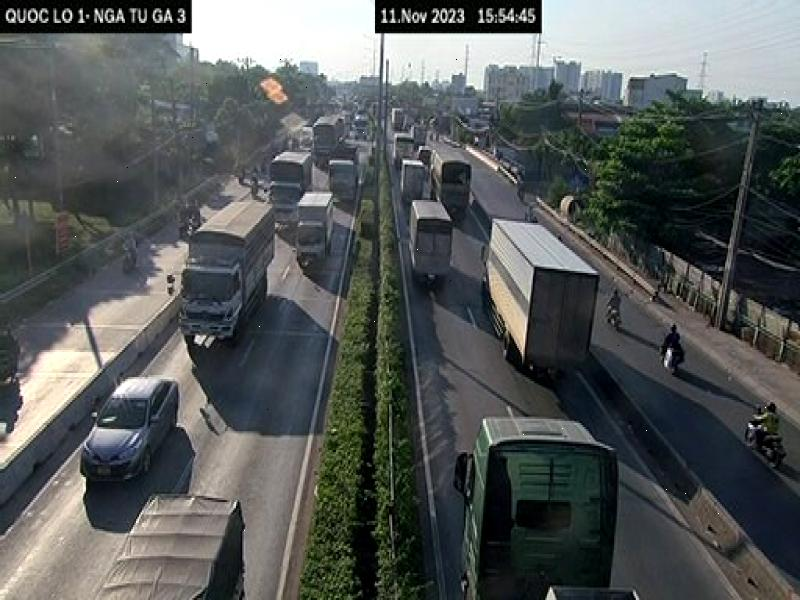truck: (462, 414, 639, 600), (478, 219, 598, 388), (95, 489, 248, 600), (178, 199, 273, 341), (407, 198, 455, 291), (268, 148, 315, 228), (296, 189, 332, 270)
